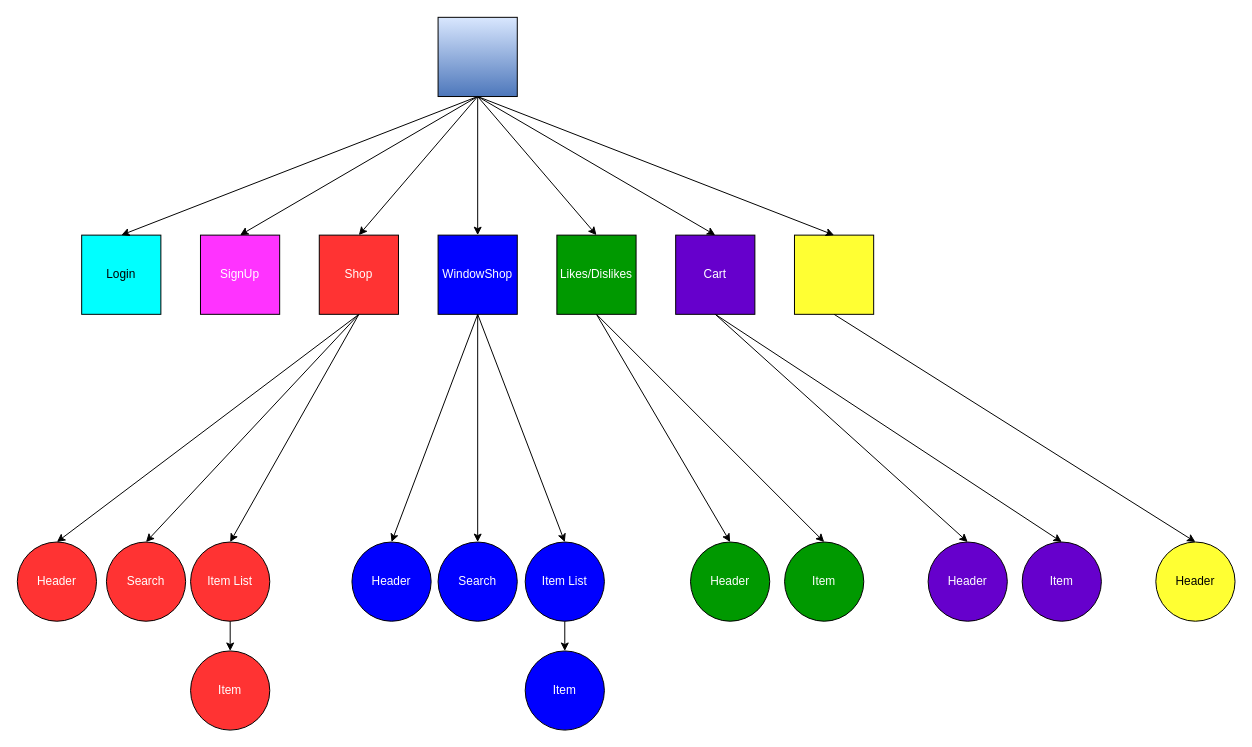
Some shapes in this 1252 by 747 pixel diagram are drawn without their labels. Here are the shapes that lost their labels. From the top down, the centre of each, then its label:
At [477,56]: "App".
At [833,274]: "Add Item".
